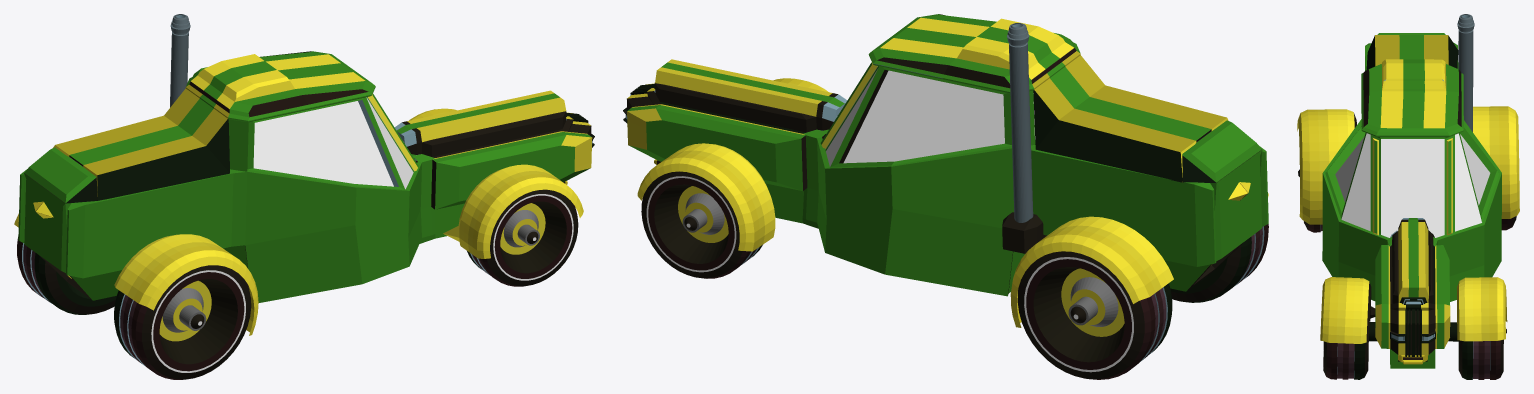
The model's file is tractor (2).fbx.
3 renders of one model, left to right at view 1: azimuth 30°, elevation 25°; view 2: azimuth 150°, elevation 25°; view 3: azimuth 270°, elevation 25°, orthographic. The views are drawn at different scales.
Visible parts, largest first — view 1: Cylinder.001; view 2: Cylinder.001; view 3: Cylinder.001.
Part boxes in pixels (bbox=[...]): Cylinder.001: bbox=[14, 14, 594, 379]; Cylinder.001: bbox=[623, 14, 1268, 379]; Cylinder.001: bbox=[1297, 14, 1519, 379].
Size of the model in its own units: 5781 by 2803 by 2319.
